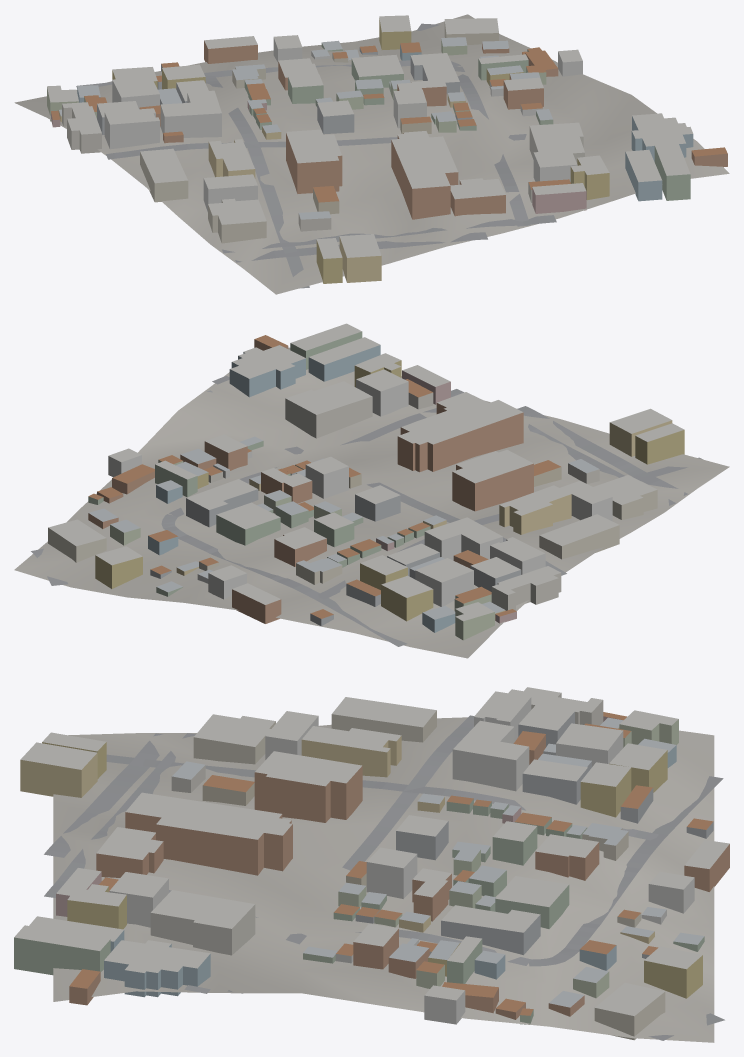
3 views of the same model, one above another, from view 1: azimuth 30°, elevation 25°; view 2: azimuth 150°, elevation 25°; view 3: azimuth 270°, elevation 25° (orthographic). The views are drawn at different scales.
Parts seen in each view (by area): view 1: Lo; view 2: Lo; view 3: Lo.
Boxes of the visible parts, x1=… form: Lo: x1=14, y1=14, x2=729, y2=294; Lo: x1=14, y1=323, x2=729, y2=658; Lo: x1=14, y1=687, x2=729, y2=1042.
Size of the model in its own units: 270 by 35.79 by 277.
